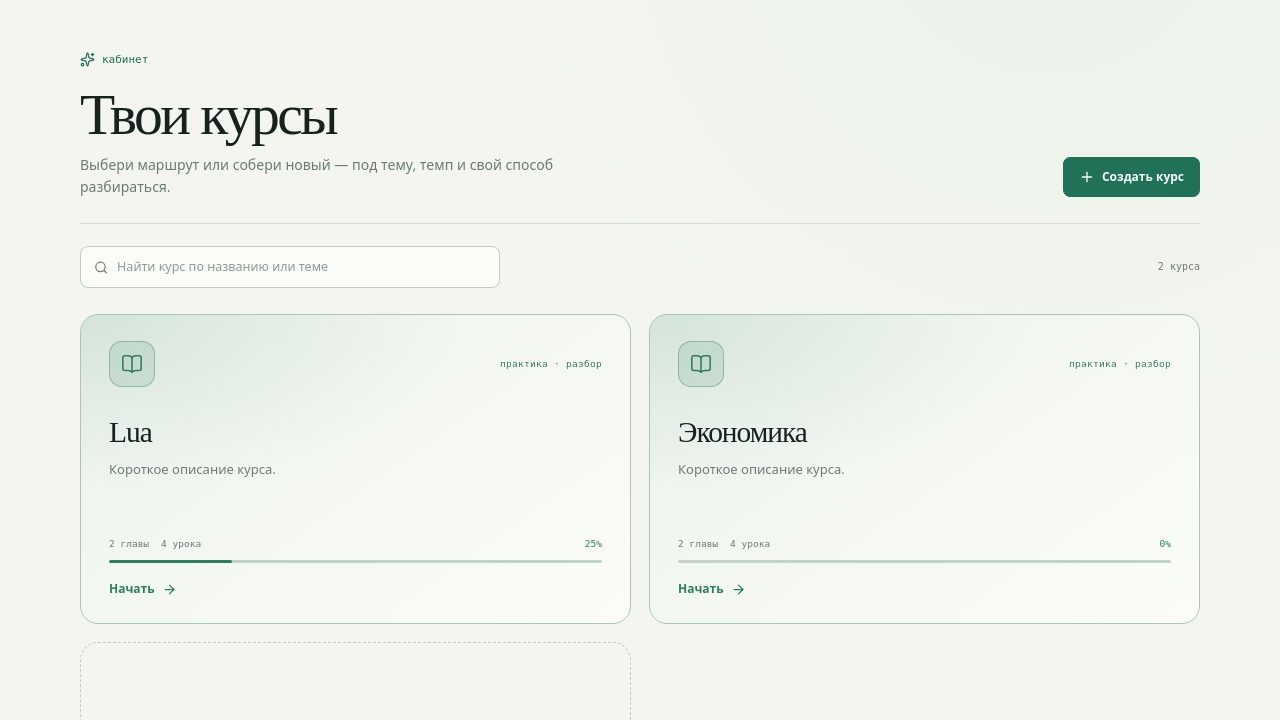
CoursesHome › filters cards by the search query
The image size is (1280, 720).
Check: the heading "Lua" is shown, box [109,416,152,448]
Type "эконом" into the field named "Поиск по курсам".
click(302, 267); type("эконом")  # box [117,247,486,287]
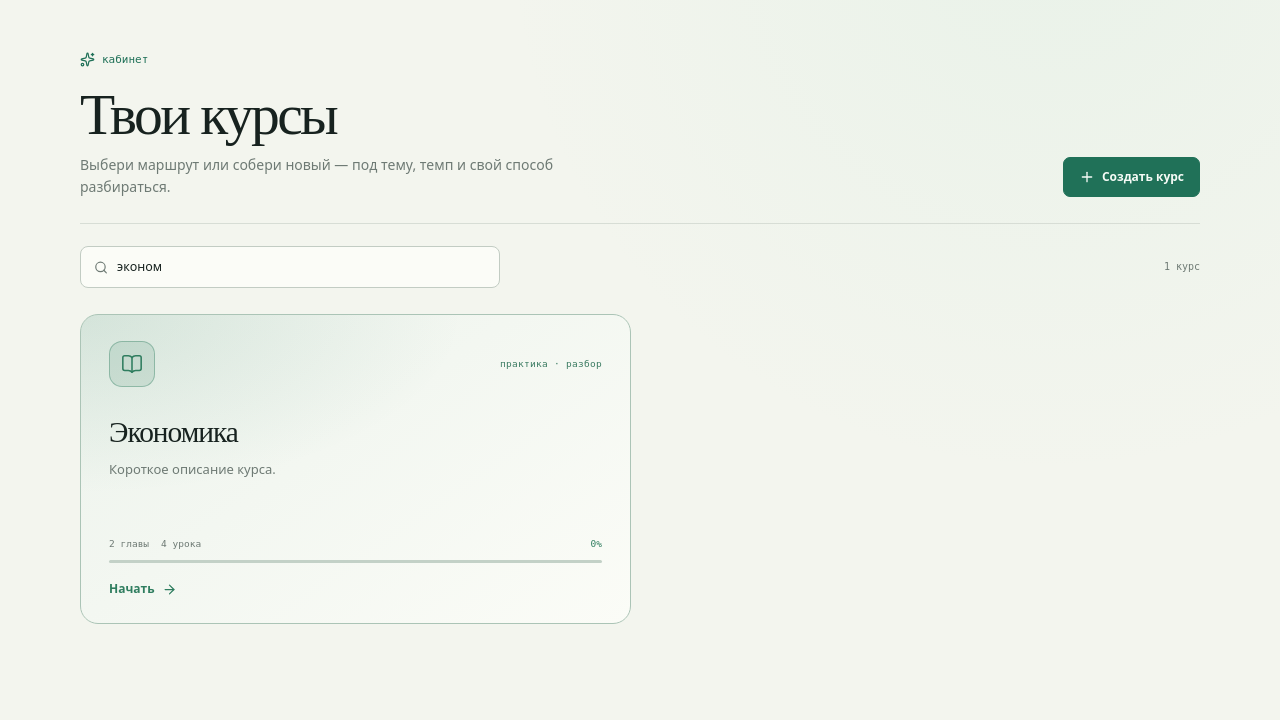
Check: the heading "Экономика" is shown, box [109,416,238,448]
Check: the link "Lua" is gone
